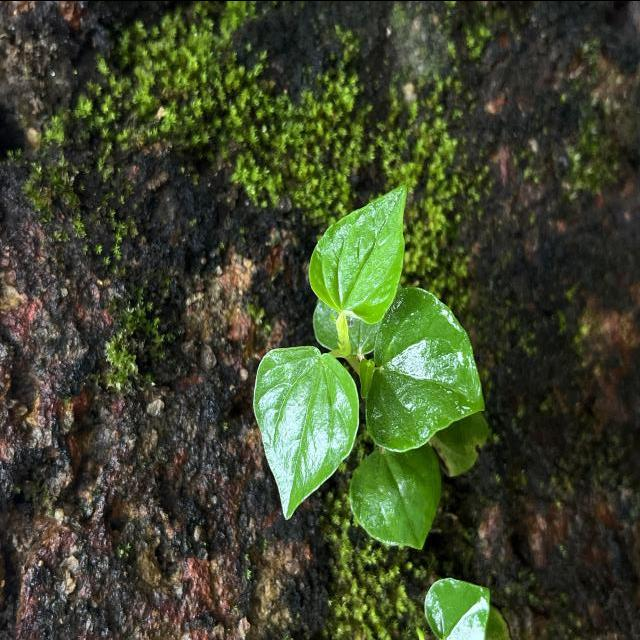Peperomia pellucida: (362, 284, 487, 456), (250, 341, 362, 521), (305, 178, 413, 324)
